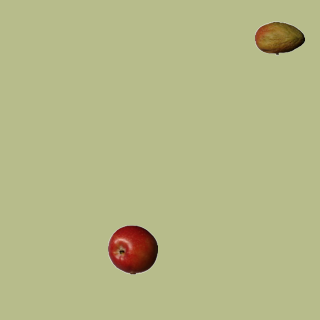Apple Braeburn: (107, 224, 157, 274)
Papaya: (254, 13, 304, 63)
